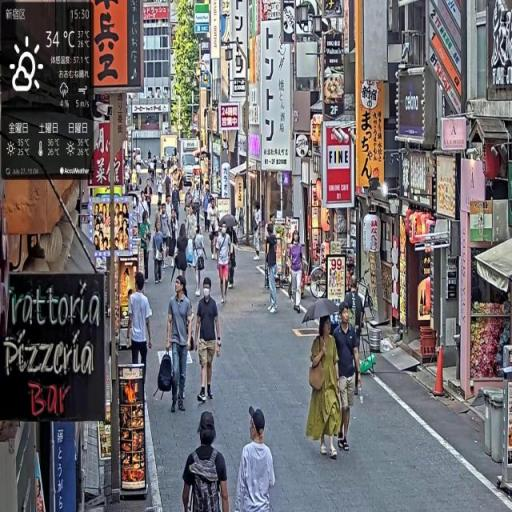person: (308, 315, 345, 464), (180, 410, 231, 512), (235, 404, 278, 512), (331, 305, 361, 451), (165, 273, 194, 417), (195, 275, 224, 405), (127, 272, 155, 406), (288, 227, 307, 316), (265, 217, 281, 315), (215, 221, 233, 307), (194, 226, 208, 300), (152, 221, 167, 286), (208, 198, 222, 259)
